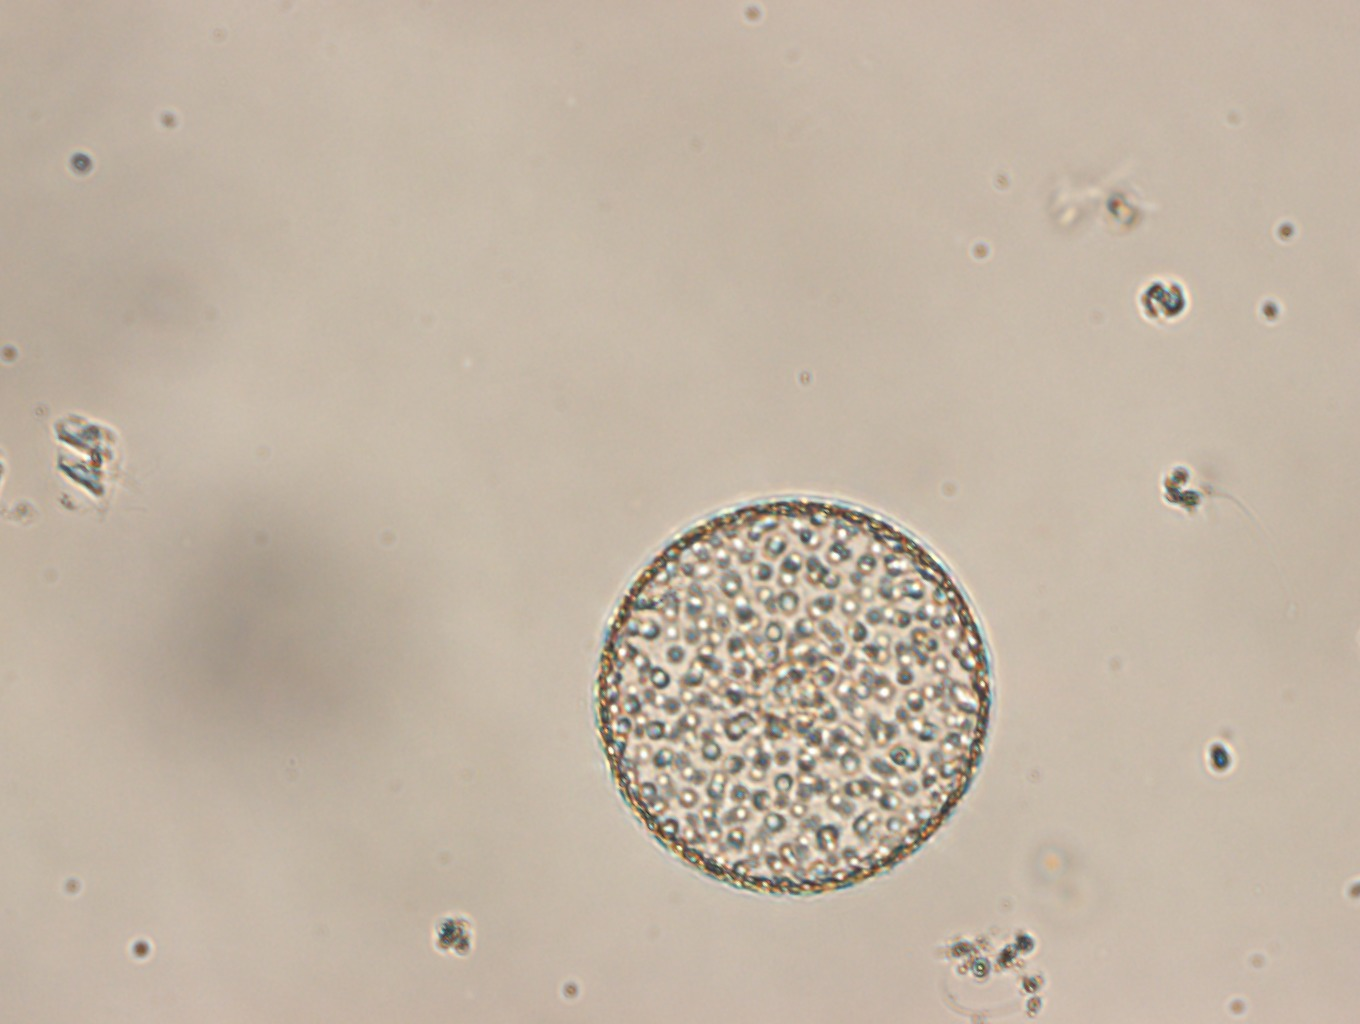coscinodiscus: (595, 490, 994, 898)
